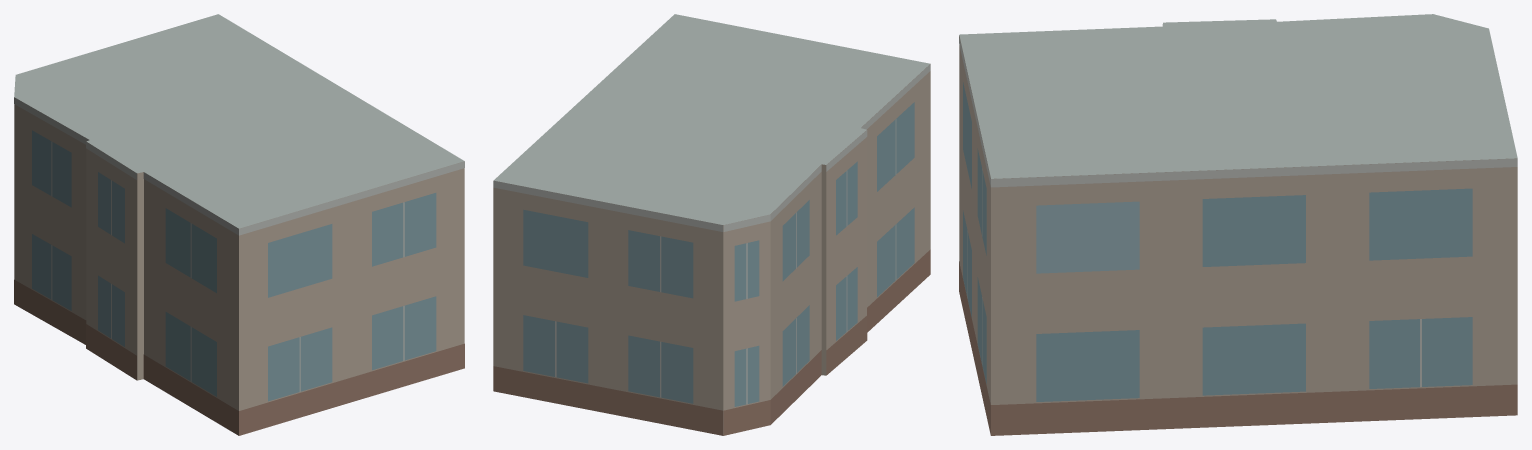
File: survey-upis-32625754.glb
The picture shows the model from 3 angles, left to right: view 1: azimuth 30°, elevation 25°; view 2: azimuth 150°, elevation 25°; view 3: azimuth 270°, elevation 25°; orthographic projection. The views are drawn at different scales.
Parts seen in each view (by area): view 1: survey-upis-32625754.tmp; view 2: survey-upis-32625754.tmp; view 3: survey-upis-32625754.tmp.
Boxes of the visible parts, x1,y1,x2,y2 form: survey-upis-32625754.tmp: (14, 14, 464, 435); survey-upis-32625754.tmp: (493, 14, 930, 435); survey-upis-32625754.tmp: (959, 14, 1517, 435).
Size of the model in its own units: 10.06 by 7.3 by 14.39.
